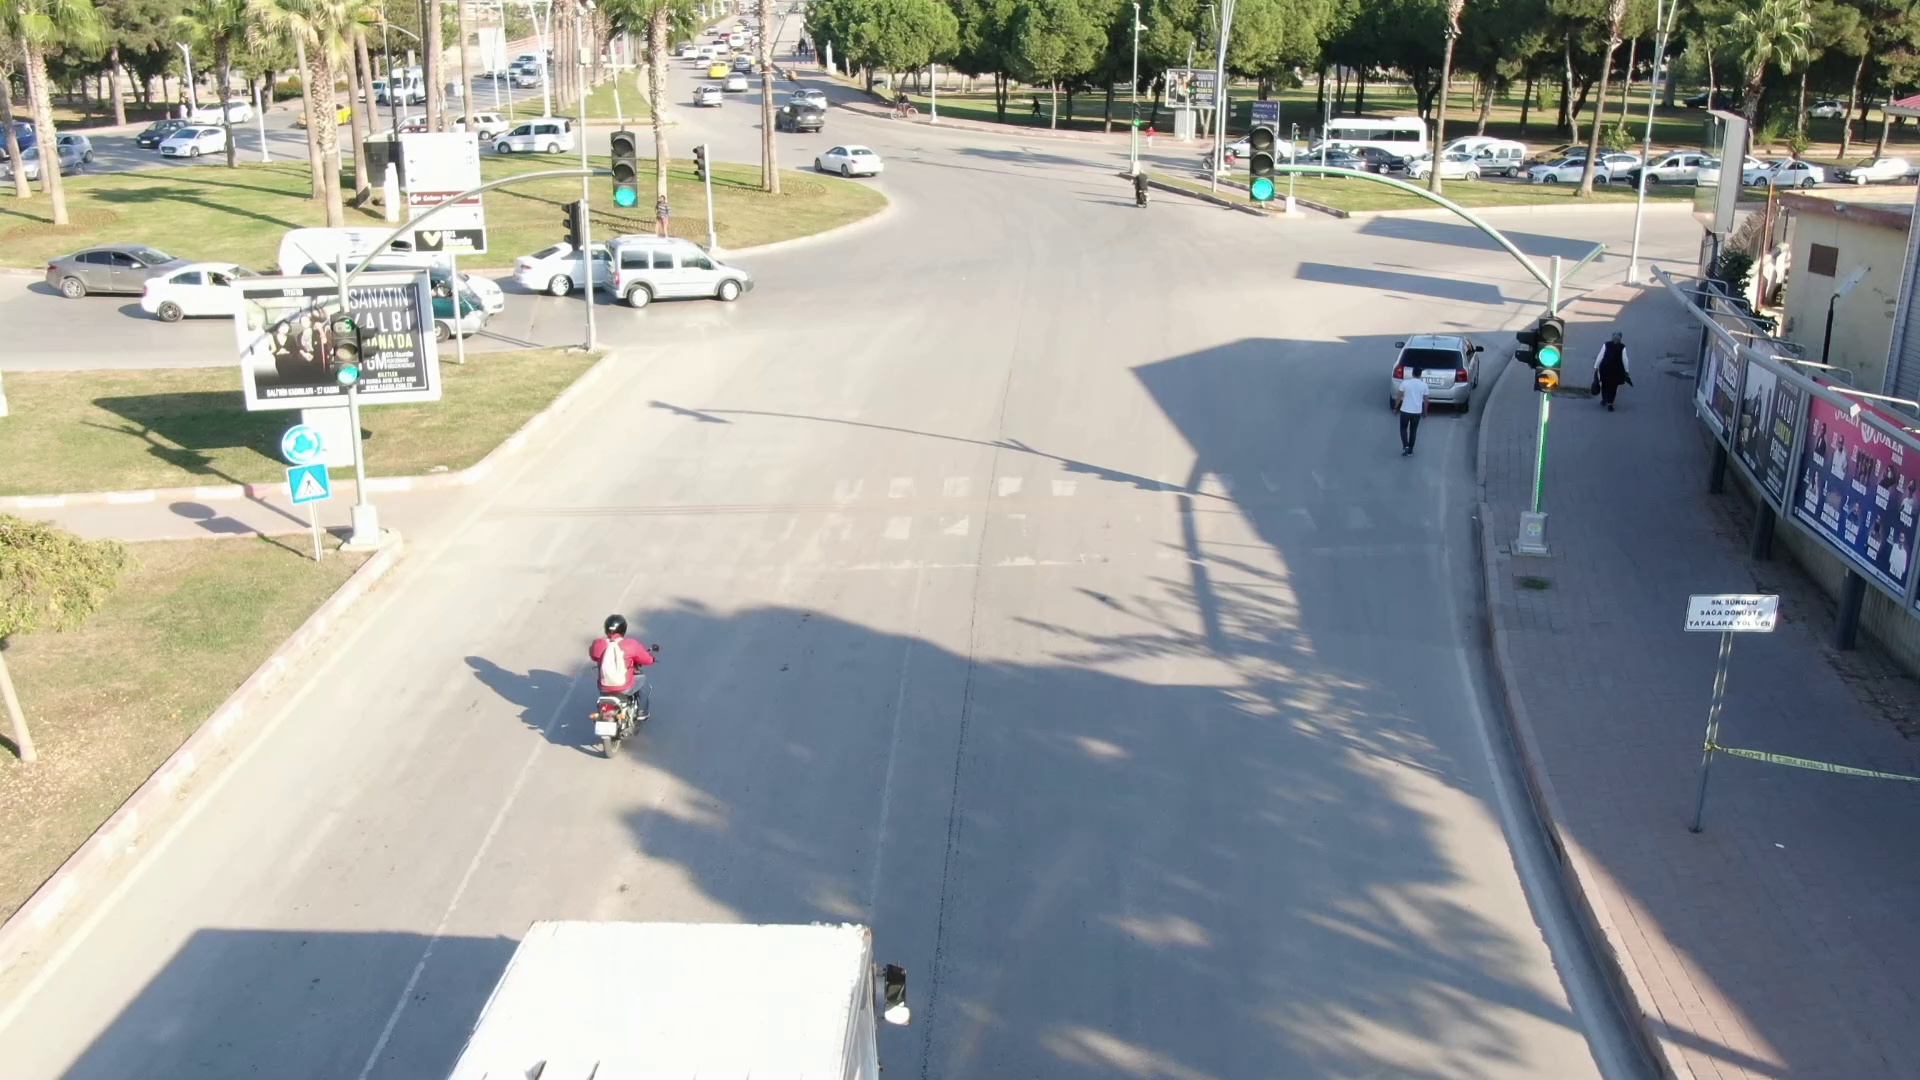car: (33, 226, 197, 324), (594, 230, 768, 318), (802, 131, 895, 189), (485, 111, 578, 159), (153, 116, 243, 159), (770, 91, 839, 139), (686, 75, 727, 113)
person: (573, 588, 686, 713), (1582, 314, 1639, 425), (1392, 354, 1443, 461)
